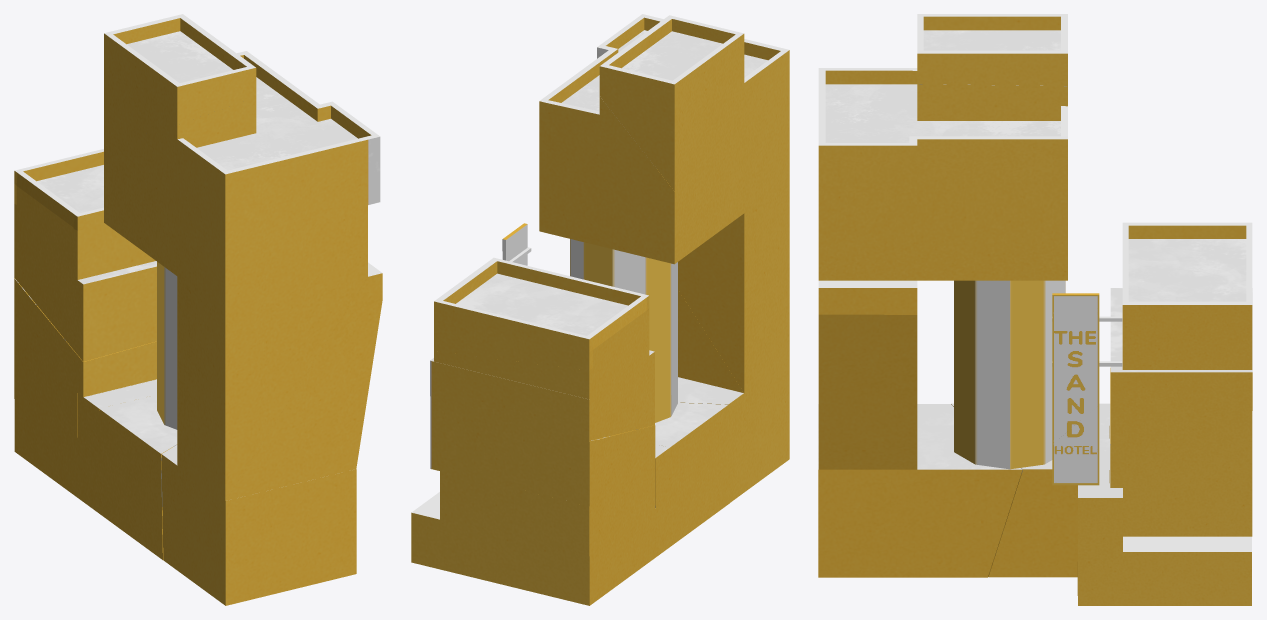
File: building-sand-mesh 1.FBX
The picture shows the model from 3 angles, left to right: view 1: azimuth 30°, elevation 25°; view 2: azimuth 150°, elevation 25°; view 3: azimuth 270°, elevation 25°; orthographic projection. The views are drawn at different scales.
Parts seen in each view (by area): view 1: Sand-Hotel-chunk-5, Sand-Hotel-chunk-3, Sand-Hotel-chunk-1, Sand-Hotel-chunk-2, Sand-Hotel-chunk-16, Sand-Hotel-chunk-6, Sand-Hotel-chunk-12, Sand-Hotel-chunk-10, Sand-Hotel-chunk-22, Sand-Hotel-chunk-14, Sand-Hotel-chunk-13, Sand-Hotel-chunk-8 (+4 smaller); view 2: Sand-Hotel-chunk-5, Sand-Hotel-chunk-14, Sand-Hotel-chunk-3, Sand-Hotel-chunk-10, Sand-Hotel-chunk-8, Sand-Hotel-chunk-9, Sand-Hotel-chunk-6, Sand-Hotel-chunk-11, Sand-Hotel-chunk-16, Sand-Hotel-chunk-1, Sand-Hotel-chunk-4, Sand-Hotel-chunk-13 (+3 smaller); view 3: Sand-Hotel-chunk-5, Sand-Hotel-chunk-1, Sand-Hotel-chunk-2, Sand-Hotel-chunk-4, Sand-Hotel-chunk-14, Sand-Hotel-chunk-8, Sand-Hotel-chunk-10, Sand-Hotel-chunk-16, Sand-Hotel-chunk-11, Sand-Hotel-chunk-9, Sand-Hotel-chunk-22, Sand-Hotel-chunk-17 (+7 smaller).
Boxes of the visible parts, x1,y1,x2,y2 form: Sand-Hotel-chunk-5: (104, 51, 380, 311); Sand-Hotel-chunk-3: (177, 276, 367, 500); Sand-Hotel-chunk-1: (161, 445, 356, 605); Sand-Hotel-chunk-2: (225, 262, 382, 500); Sand-Hotel-chunk-16: (99, 394, 177, 559); Sand-Hotel-chunk-6: (104, 33, 256, 145); Sand-Hotel-chunk-12: (77, 261, 156, 361); Sand-Hotel-chunk-10: (14, 278, 156, 396); Sand-Hotel-chunk-22: (104, 14, 255, 86); Sand-Hotel-chunk-14: (14, 149, 108, 230); Sand-Hotel-chunk-13: (14, 204, 155, 279); Sand-Hotel-chunk-8: (14, 399, 99, 513); Sand-Hotel-chunk-5: (539, 14, 789, 264); Sand-Hotel-chunk-14: (434, 257, 649, 370); Sand-Hotel-chunk-3: (678, 180, 789, 392); Sand-Hotel-chunk-10: (430, 396, 655, 506); Sand-Hotel-chunk-8: (411, 492, 670, 605); Sand-Hotel-chunk-9: (440, 463, 649, 556); Sand-Hotel-chunk-6: (599, 34, 744, 191); Sand-Hotel-chunk-11: (430, 356, 649, 440); Sand-Hotel-chunk-16: (655, 402, 730, 546); Sand-Hotel-chunk-1: (678, 360, 789, 502); Sand-Hotel-chunk-4: (570, 239, 677, 422); Sand-Hotel-chunk-13: (434, 309, 649, 399); Sand-Hotel-chunk-5: (818, 68, 1067, 280); Sand-Hotel-chunk-1: (818, 404, 1022, 577); Sand-Hotel-chunk-2: (818, 280, 917, 469); Sand-Hotel-chunk-4: (954, 280, 1065, 469); Sand-Hotel-chunk-14: (1122, 222, 1252, 358); Sand-Hotel-chunk-8: (1077, 536, 1251, 605); Sand-Hotel-chunk-10: (1110, 368, 1252, 489); Sand-Hotel-chunk-16: (951, 403, 1077, 577); Sand-Hotel-chunk-11: (1123, 288, 1252, 442); Sand-Hotel-chunk-9: (1123, 488, 1252, 536); Sand-Hotel-chunk-22: (917, 14, 1067, 53); Sand-Hotel-chunk-17: (1052, 308, 1099, 443).
Size of the model in its own units: 7.53 by 18.46 by 14.59.
